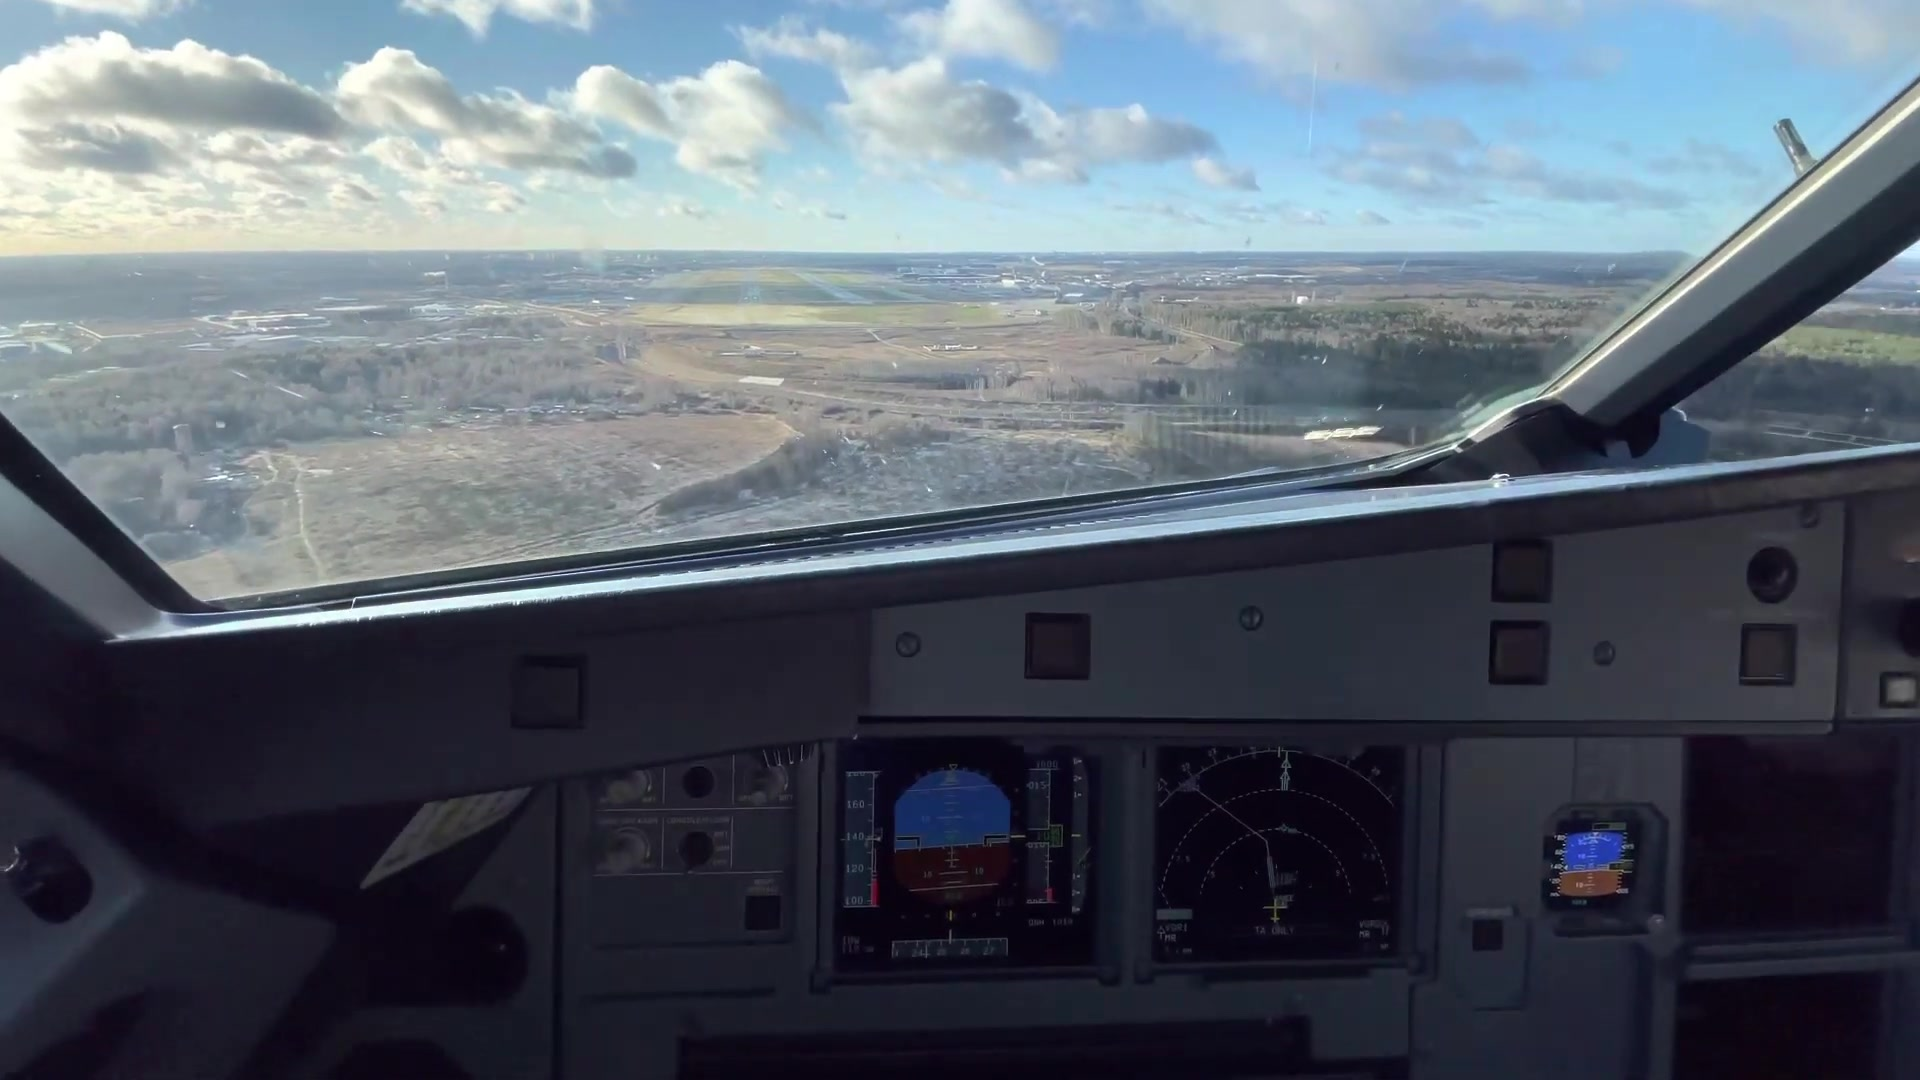runway: (793, 265, 876, 305), (736, 262, 764, 309)
